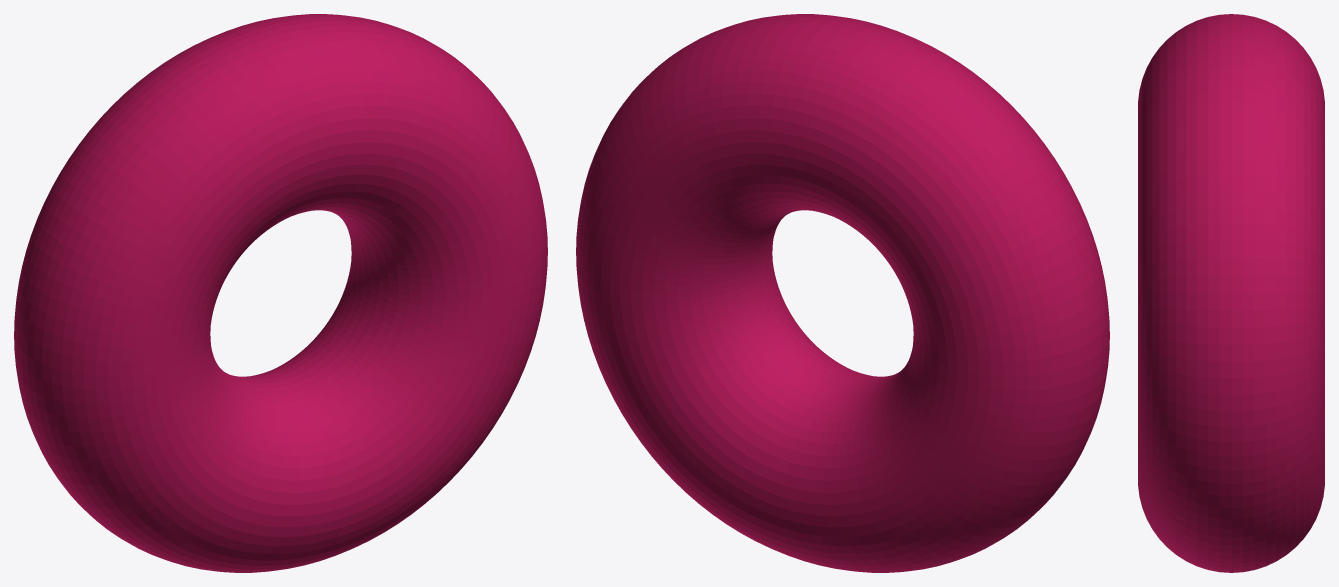
3 views of the same model, side by side, from view 1: azimuth 30°, elevation 25°; view 2: azimuth 150°, elevation 25°; view 3: azimuth 270°, elevation 25° (orthographic). The views are drawn at different scales.
Parts seen in each view (by area): view 1: world; view 2: world; view 3: world.
Boxes of the visible parts, x1=… form: world: x1=14, y1=14, x2=547, y2=572; world: x1=576, y1=14, x2=1109, y2=572; world: x1=1138, y1=14, x2=1324, y2=572.
Bounding box in the file's own units: 25.07 × 25.07 × 8.38.
